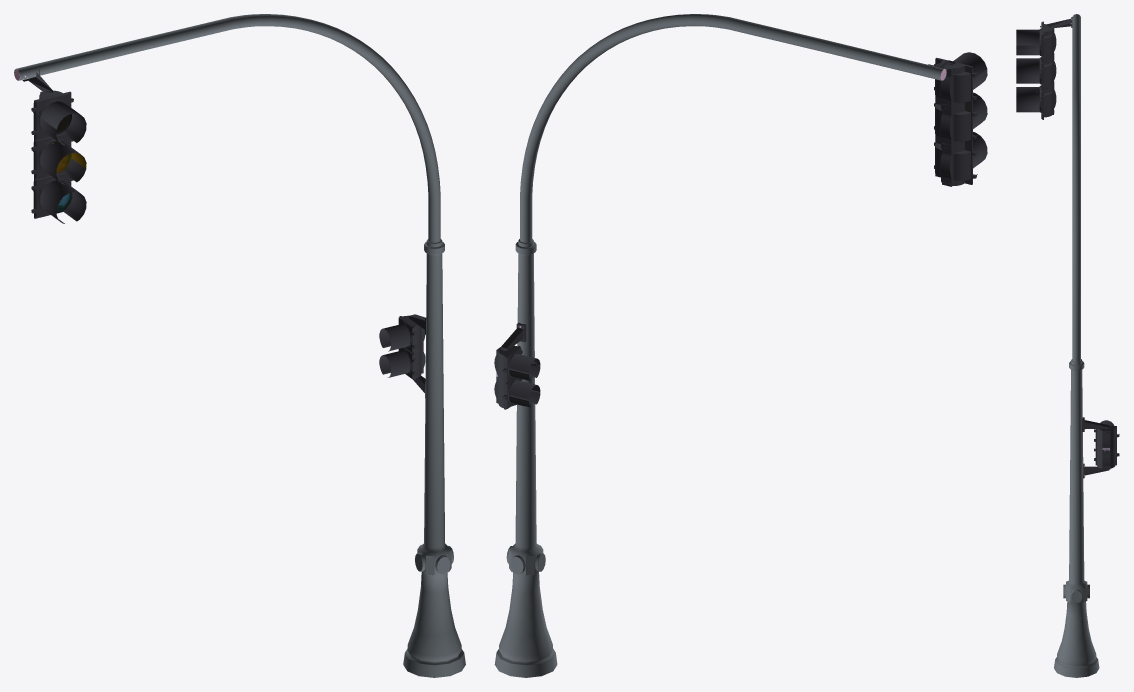
File: SemaforoAmarilloCocinado.obj
3 renders of one model, left to right at view 1: azimuth 30°, elevation 25°; view 2: azimuth 150°, elevation 25°; view 3: azimuth 270°, elevation 25°, orthographic. The views are drawn at different scales.
Visible parts, largest first — view 1: Circle_113, Semaforo, Semaforo2, capaLuz001; view 2: Circle_113, Semaforo, Semaforo2; view 3: Circle_113, Semaforo, Semaforo2, capaLuz001.
Part boxes in pixels (x1=…): Circle_113: x1=14, y1=14, x2=465, y2=677; Semaforo: x1=22, y1=69, x2=86, y2=223; Semaforo2: x1=379, y1=314, x2=426, y2=397; capaLuz001: x1=40, y1=101, x2=86, y2=144; Circle_113: x1=494, y1=14, x2=946, y2=677; Semaforo: x1=928, y1=57, x2=987, y2=186; Semaforo2: x1=494, y1=322, x2=540, y2=409; Circle_113: x1=1054, y1=14, x2=1099, y2=677; Semaforo: x1=1016, y1=17, x2=1072, y2=119; Semaforo2: x1=1082, y1=417, x2=1119, y2=478; capaLuz001: x1=1016, y1=29, x2=1039, y2=45.
Size of the model in its own units: 66.52 by 97.65 by 18.1.
